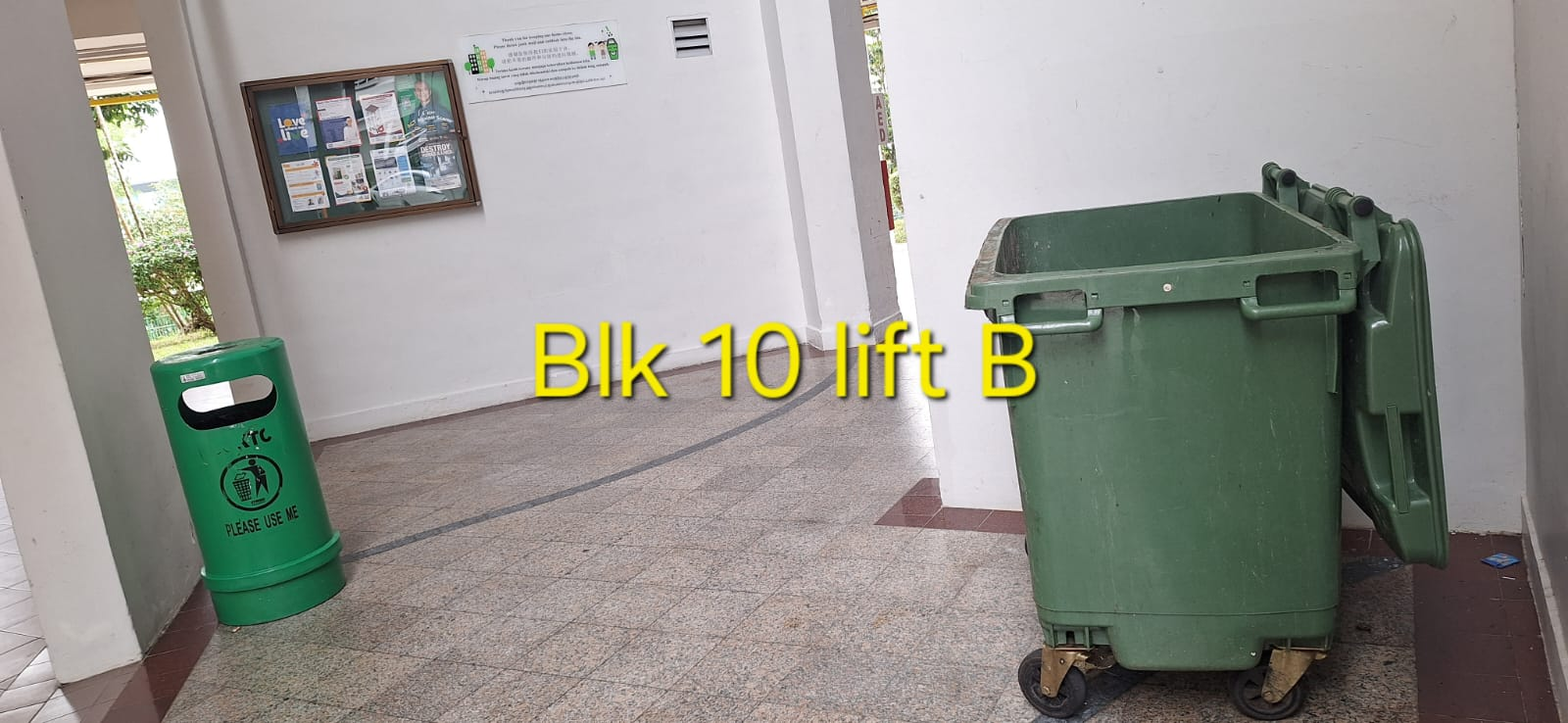bin_empty: (965, 164, 1446, 720), (149, 337, 345, 624)
